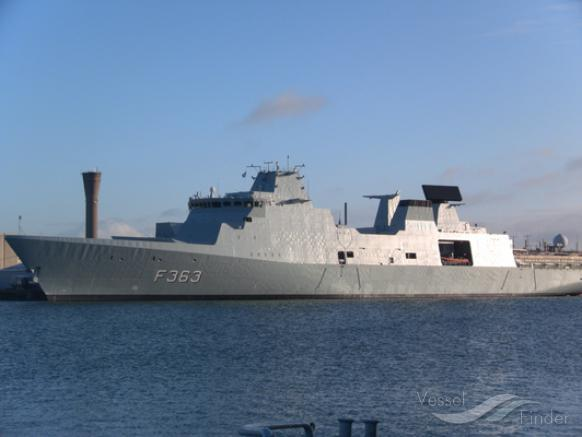OCR: (148, 265, 204, 285)
